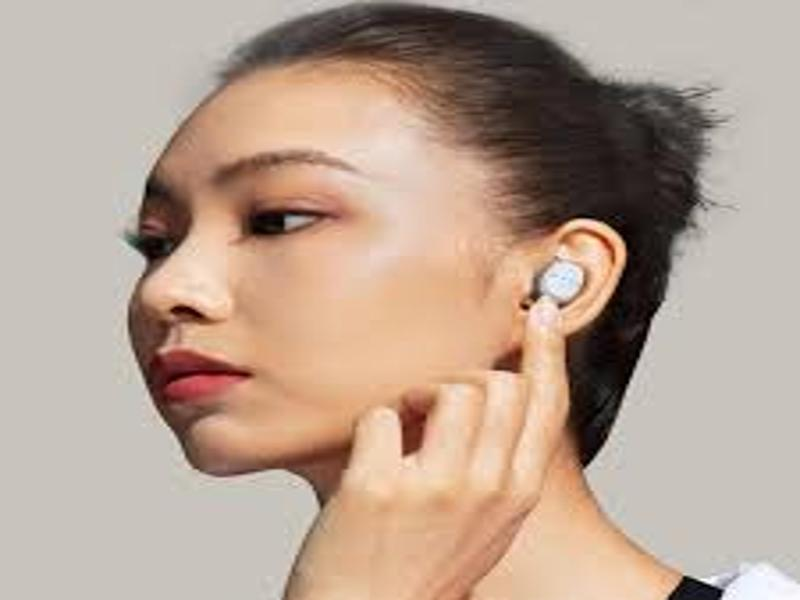headphone: (535, 258, 585, 308)
